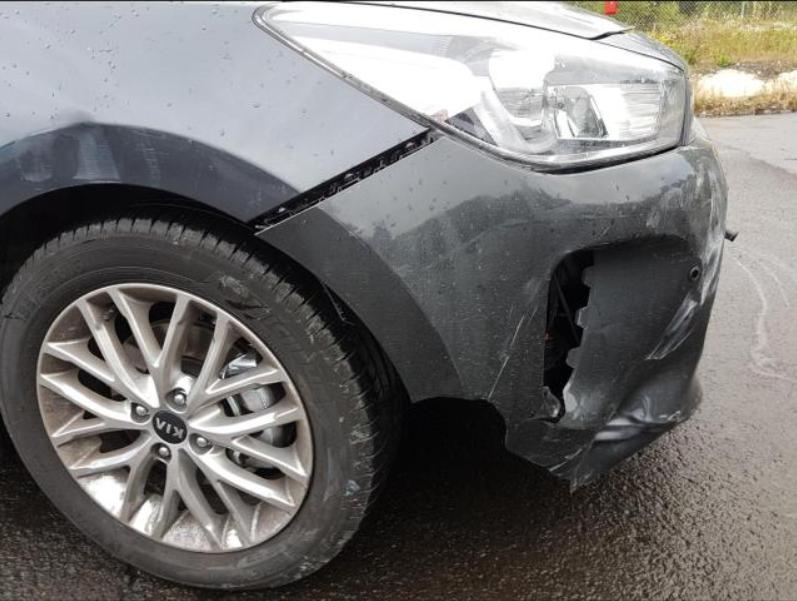Fender: (0, 0, 427, 221)
Front-bumper: (257, 29, 729, 485)
Front-wheel: (0, 218, 410, 592)
Headlight: (257, 1, 685, 167)
Hood: (361, 0, 632, 38)
